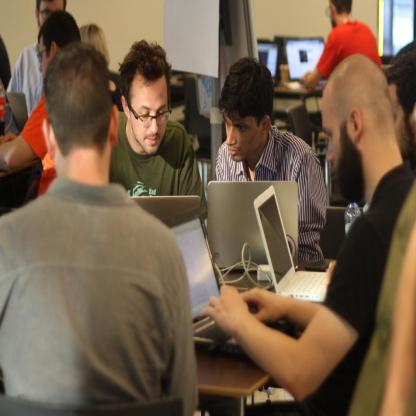board: (160, 207, 287, 359), (254, 185, 327, 304), (206, 182, 300, 269), (282, 38, 325, 90), (128, 198, 201, 222), (256, 40, 279, 87), (5, 92, 29, 131)
